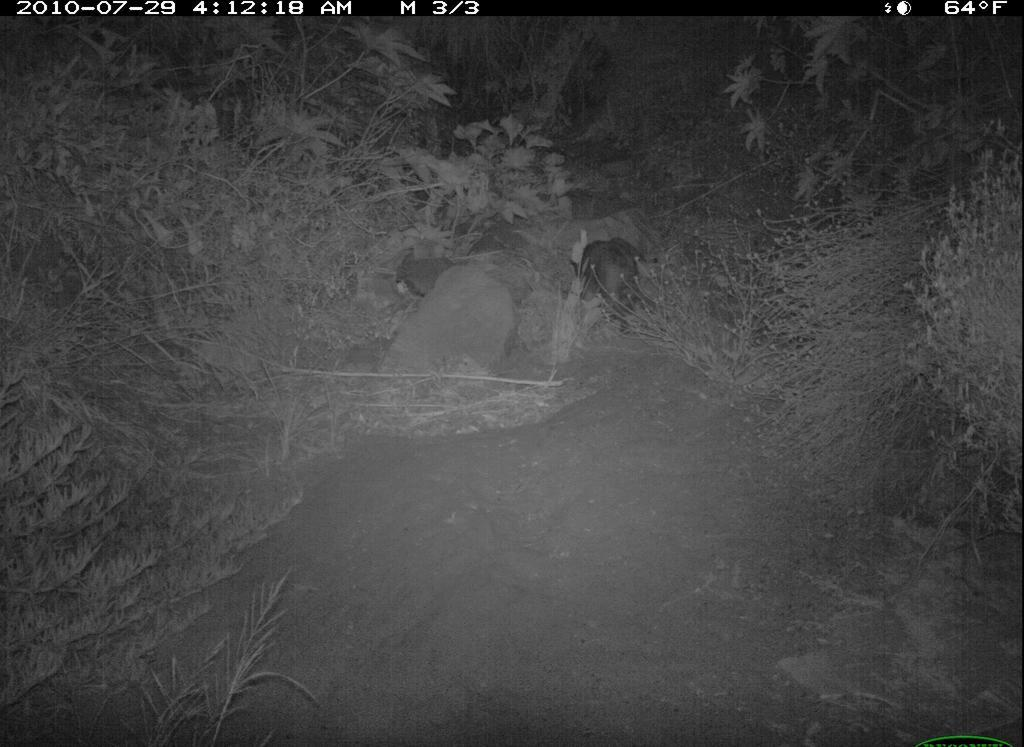raccoon: (577, 233, 655, 340)
